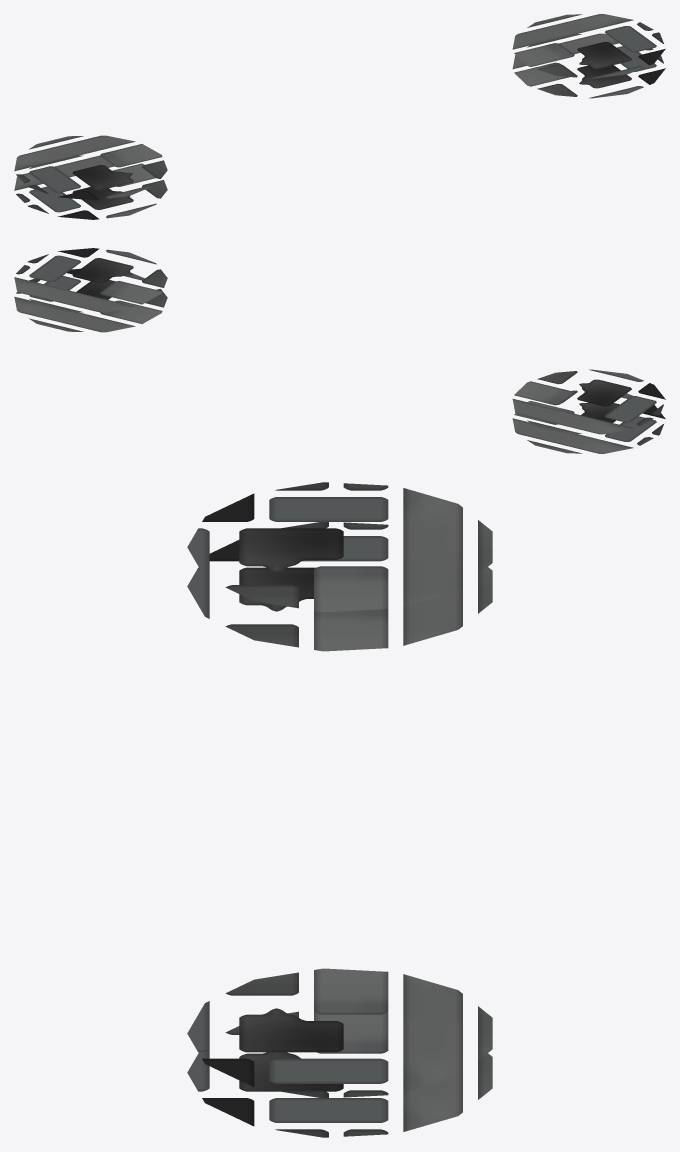
Rendered from air_spring_upper.obj.
3 views of the same model, one above another, from view 1: azimuth 30°, elevation 25°; view 2: azimuth 150°, elevation 25°; view 3: azimuth 270°, elevation 25° (orthographic). The views are drawn at different scales.
Visible parts, largest first — view 1: frame, air_spring_left_cap, air_spring_right_cap; view 2: frame, air_spring_right_cap, air_spring_left_cap; view 3: frame, air_spring_left_cap, air_spring_right_cap.
Boxes of the visible parts, box(x1,y1,x2,y2) form: frame: box(14, 14, 665, 200); air_spring_left_cap: box(14, 155, 167, 219); air_spring_right_cap: box(512, 33, 665, 98); frame: box(14, 248, 665, 434); air_spring_right_cap: box(14, 268, 167, 332); air_spring_left_cap: box(512, 390, 665, 453); frame: box(187, 482, 492, 1098); air_spring_left_cap: box(187, 522, 492, 651); air_spring_right_cap: box(187, 1011, 492, 1137).
Bounding box in the file's own units: 3.06 × 0.0906 × 0.6407.
